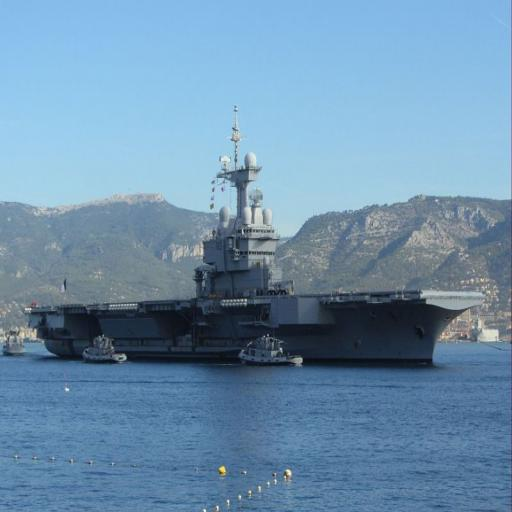Portanaves: (26, 99, 487, 371)
